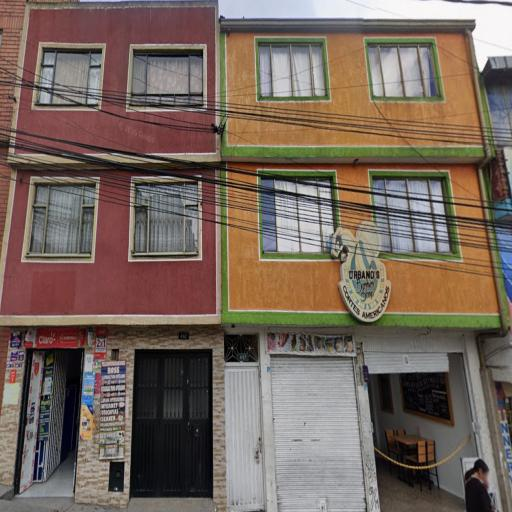Casa: (217, 13, 510, 510), (0, 0, 226, 506)
